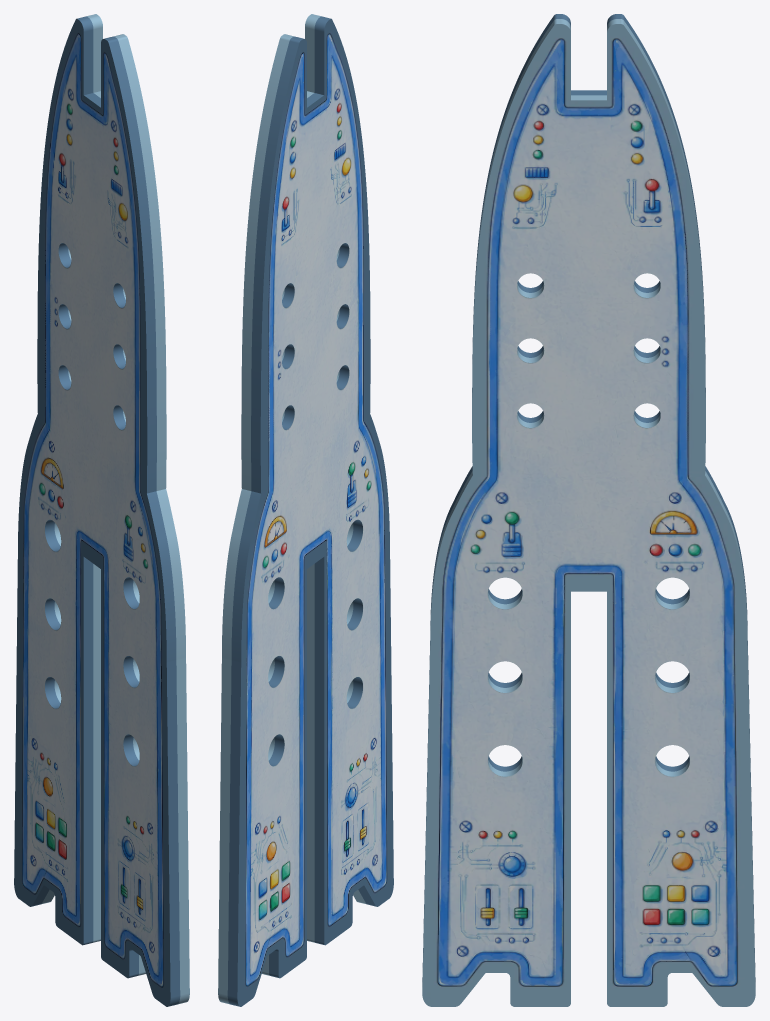
File: connector-1.glb
3 renders of one model, left to right at view 1: azimuth 30°, elevation 25°; view 2: azimuth 150°, elevation 25°; view 3: azimuth 270°, elevation 25°, orthographic. The views are drawn at different scales.
Visible parts, largest first — view 1: connector-1; view 2: connector-1; view 3: connector-1.
Boxes of the visible parts, box(x1,y1,x2,y2) form: connector-1: box(14, 14, 189, 1006); connector-1: box(218, 14, 393, 1006); connector-1: box(422, 14, 755, 1006).
Size of the model in its own units: 24 by 1095 by 337.
4 materials, 2 textured.
